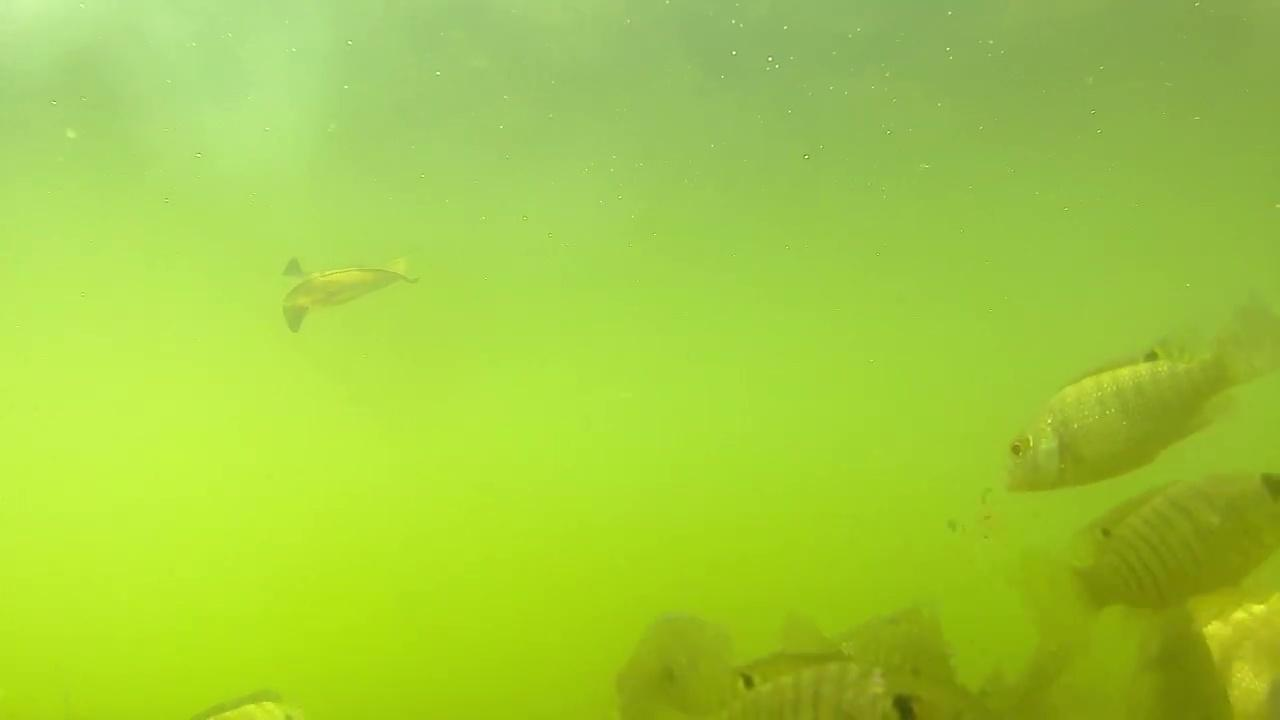Tilapia: (993, 312, 1280, 498), (1073, 462, 1280, 652)
